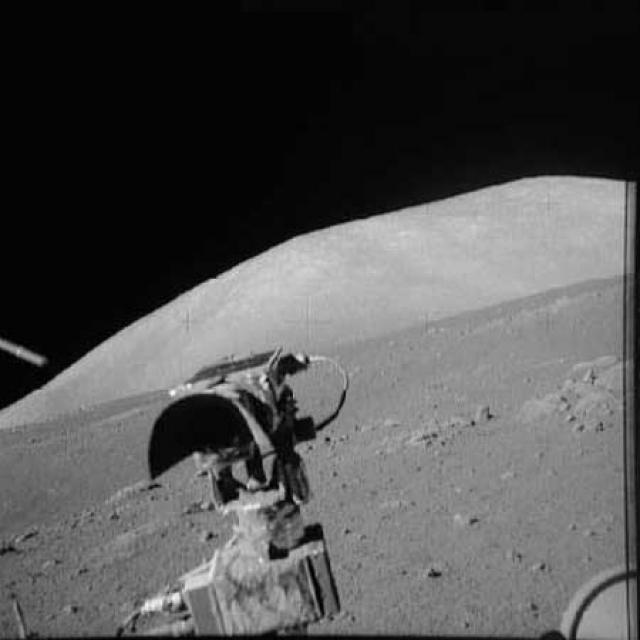artifact: (92, 314, 358, 639), (549, 549, 639, 639), (1, 334, 49, 374)
rock: (526, 344, 632, 438), (408, 397, 501, 447), (93, 468, 162, 508)
